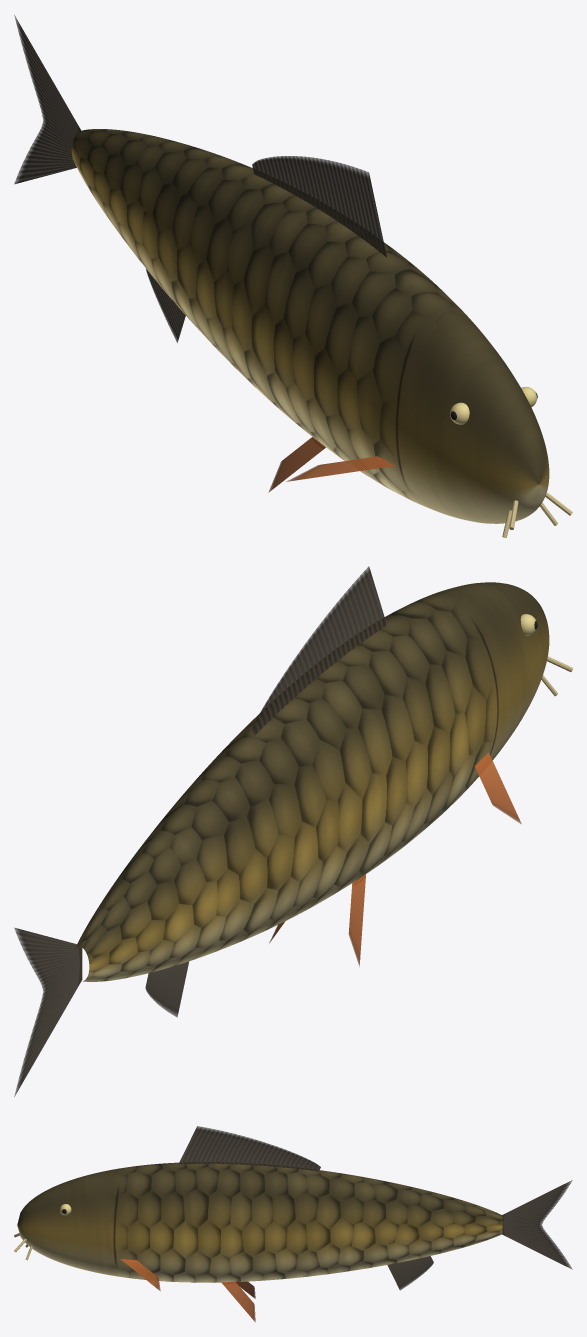
File: sazan.glb
The picture shows the model from 3 angles, top to bottom: view 1: azimuth 30°, elevation 25°; view 2: azimuth 150°, elevation 25°; view 3: azimuth 270°, elevation 25°; orthographic projection. The views are drawn at different scales.
Visible parts, largest first — view 1: body, fin_dorsal0, fin_tail, fin_pect_R, fin_pelv_R, fin_anal0; view 2: body, fin_dorsal0, fin_tail, fin_anal0, fin_pect_R, fin_pelv_R; view 3: body, fin_dorsal0, fin_tail, fin_anal0, fin_pelv_L, fin_pect_L.
Boxes of the visible parts, x1,y1,x2,y2 form: body: [71, 129, 549, 523]; fin_dorsal0: [252, 156, 386, 257]; fin_tail: [14, 15, 80, 184]; fin_pect_R: [286, 456, 395, 481]; fin_pelv_R: [268, 437, 325, 492]; fin_anal0: [146, 269, 185, 342]; body: [77, 582, 549, 981]; fin_dorsal0: [252, 566, 386, 735]; fin_tail: [14, 927, 82, 1096]; fin_anal0: [145, 961, 189, 1017]; fin_pect_R: [474, 752, 521, 824]; fin_pelv_R: [348, 874, 365, 966]; body: [17, 1162, 502, 1282]; fin_dorsal0: [178, 1126, 320, 1171]; fin_tail: [502, 1180, 572, 1269]; fin_anal0: [387, 1256, 433, 1290]; fin_pelv_L: [221, 1282, 255, 1322]; fin_pect_L: [120, 1259, 160, 1290].
Size of the model in its own units: 0.1423 by 0.2009 by 0.55.
Materials: 6 (3 with a texture image).
